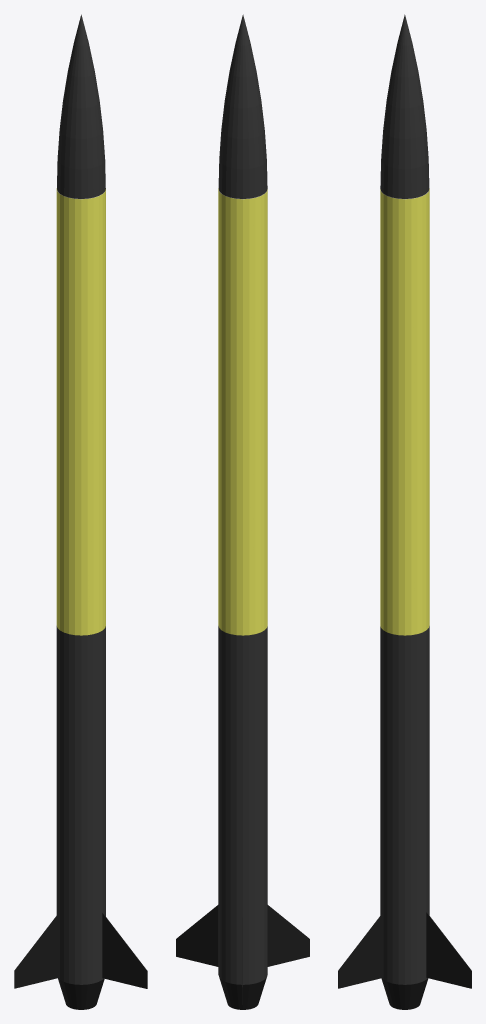
Rendered from MissionCriticalRocket.fbx.
The picture shows the model from 3 angles, left to right: view 1: azimuth 90°, elevation 25°; view 2: azimuth 150°, elevation 25°; view 3: azimuth 330°, elevation 25°; orthographic projection.
Parts seen in each view (by area): view 1: ID65, instance_5, ID30, instance_2, ID122, ID78, instance_4; view 2: ID65, instance_5, ID30, instance_2, ID78, ID103, instance_4; view 3: ID65, instance_5, ID30, instance_2, ID97, ID84, instance_4.
Boxes of the visible parts, left/top/right/bottom form: ID65: left=56, top=626, right=105, bottom=984; instance_5: left=56, top=188, right=105, bottom=460; ID30: left=56, top=451, right=105, bottom=635; instance_2: left=57, top=14, right=105, bottom=198; ID122: left=14, top=913, right=59, bottom=988; ID78: left=102, top=913, right=147, bottom=988; instance_4: left=58, top=978, right=104, bottom=1009; ID65: left=218, top=626, right=267, bottom=984; instance_5: left=218, top=188, right=267, bottom=461; ID30: left=218, top=451, right=267, bottom=635; instance_2: left=218, top=14, right=267, bottom=198; ID78: left=267, top=905, right=309, bottom=966; ID103: left=176, top=905, right=218, bottom=966; instance_4: left=219, top=977, right=266, bottom=1009; ID65: left=380, top=626, right=429, bottom=984; instance_5: left=380, top=188, right=429, bottom=461; ID30: left=380, top=451, right=429, bottom=635; instance_2: left=380, top=14, right=429, bottom=198; ID97: left=426, top=912, right=471, bottom=988; ID84: left=338, top=913, right=383, bottom=988; instance_4: left=381, top=978, right=428, bottom=1009.
Size of the model in its own units: 14.45 by 16.63 by 136.
